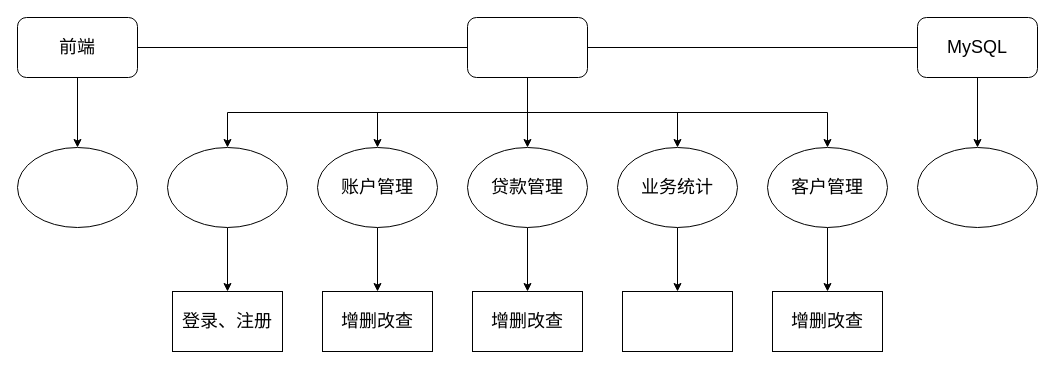
Image size: 1055x369. Some labels were removed from this diagram. The box of each missing label's shape, as (x1, y1, x2, y2) in pixels:
存储管理: (916, 146, 1038, 228)
按年、季度、月查询: (622, 290, 732, 352)
服务端: (466, 16, 588, 78)
用户管理: (166, 146, 288, 228)
界面展示: (16, 146, 138, 228)
